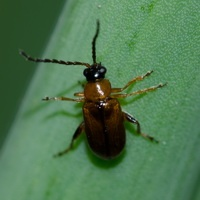insect: (19, 20, 166, 158)
